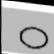no answer: (16, 23, 50, 51)
